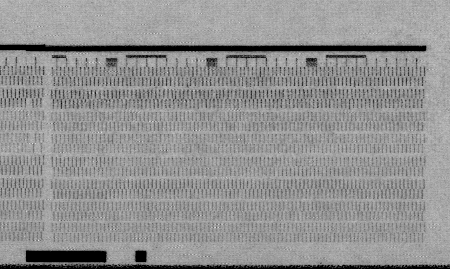Broken hole: (23, 134, 42, 153), (25, 98, 34, 109)
